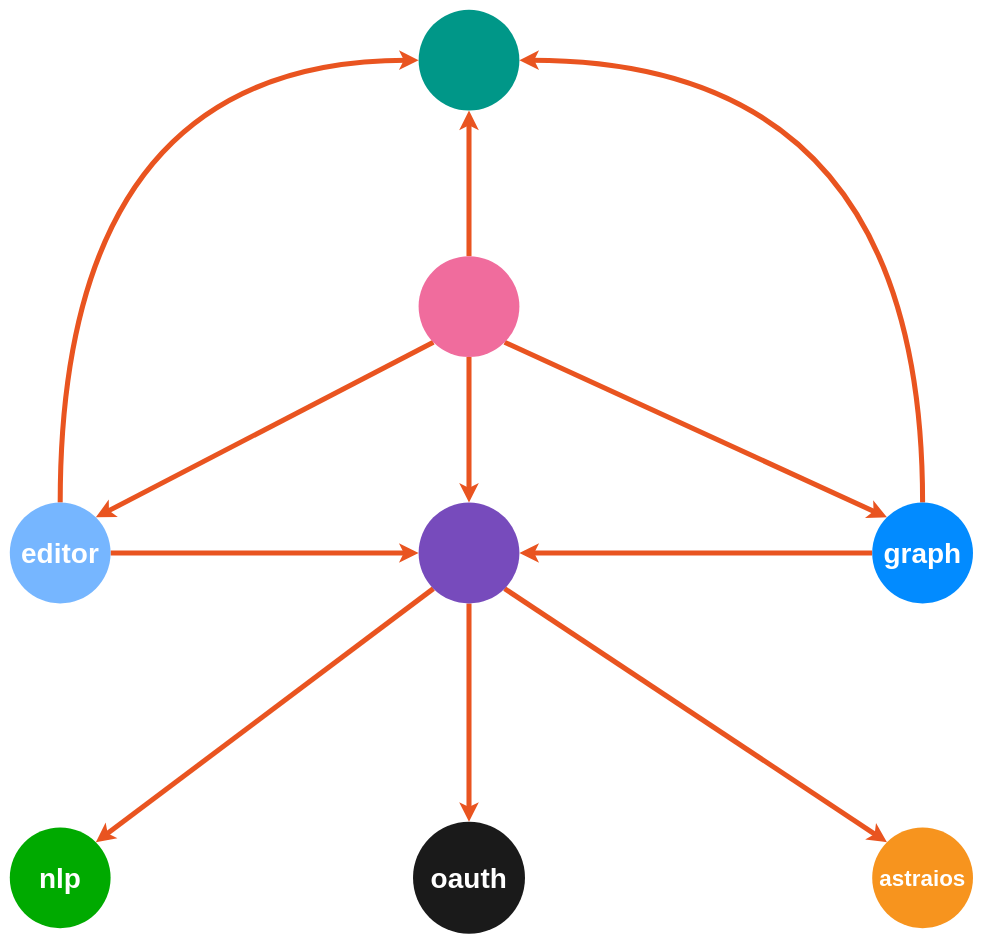
The diagram is 982 pixels wide and 943 high, and some of its shapes have lost their labels. Each missing label, with the box of its shape:
app: (418, 256, 519, 357)
i8n: (418, 10, 519, 110)
redux: (418, 502, 519, 603)
